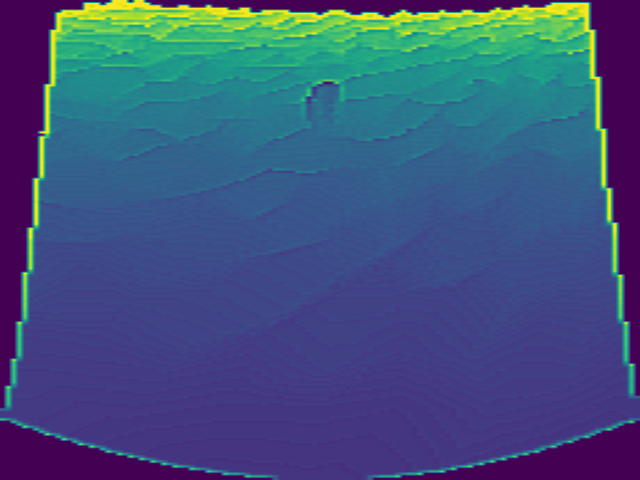car_0198: (304, 79, 342, 129)
